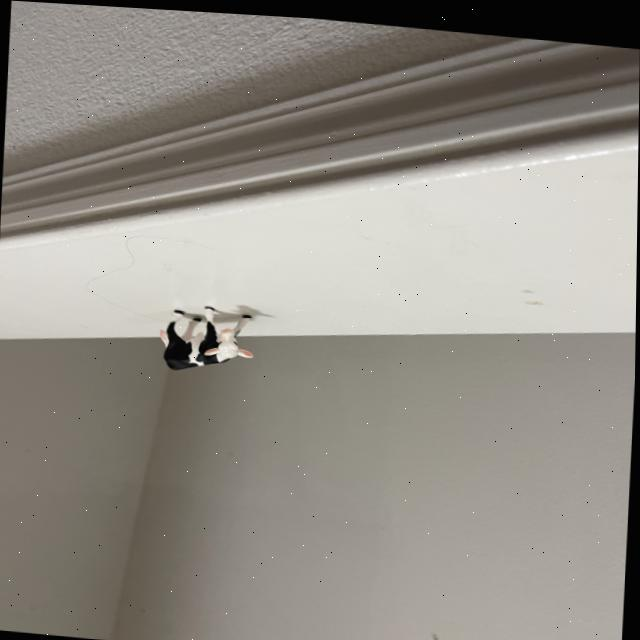cow: (160, 300, 256, 368)
